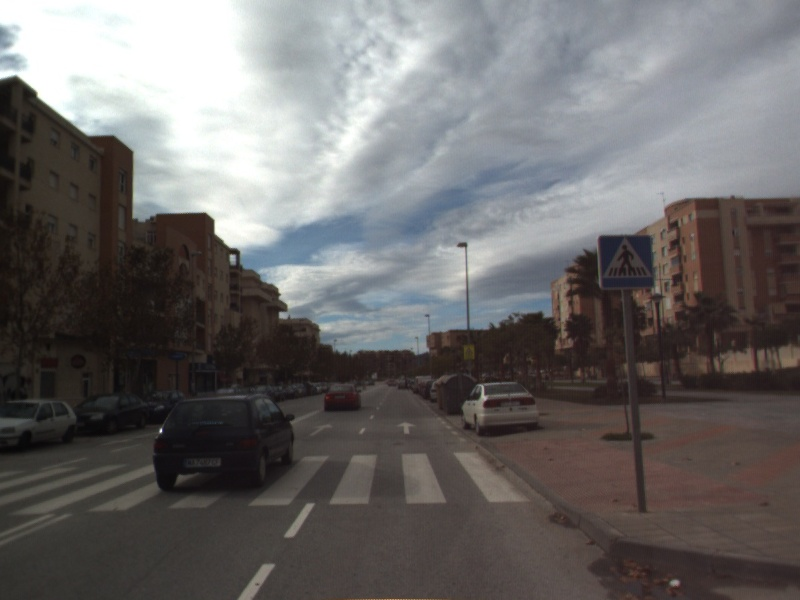STRAIGHT: (307, 421, 336, 438), (394, 419, 419, 436)
